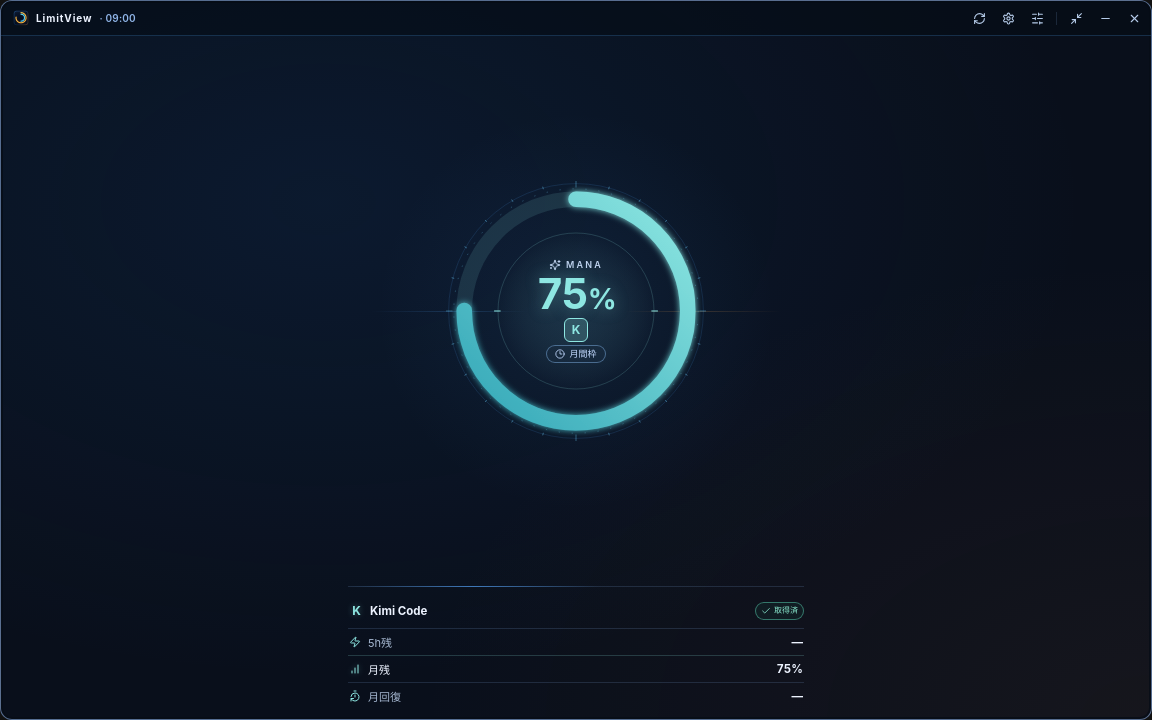
Test case: App › polls only the saved selected provider and switches monthly quota without pretending it is weekly
Click the button with aria-label "残量枠切替": (576,287) left=536, top=259, right=616, bottom=315
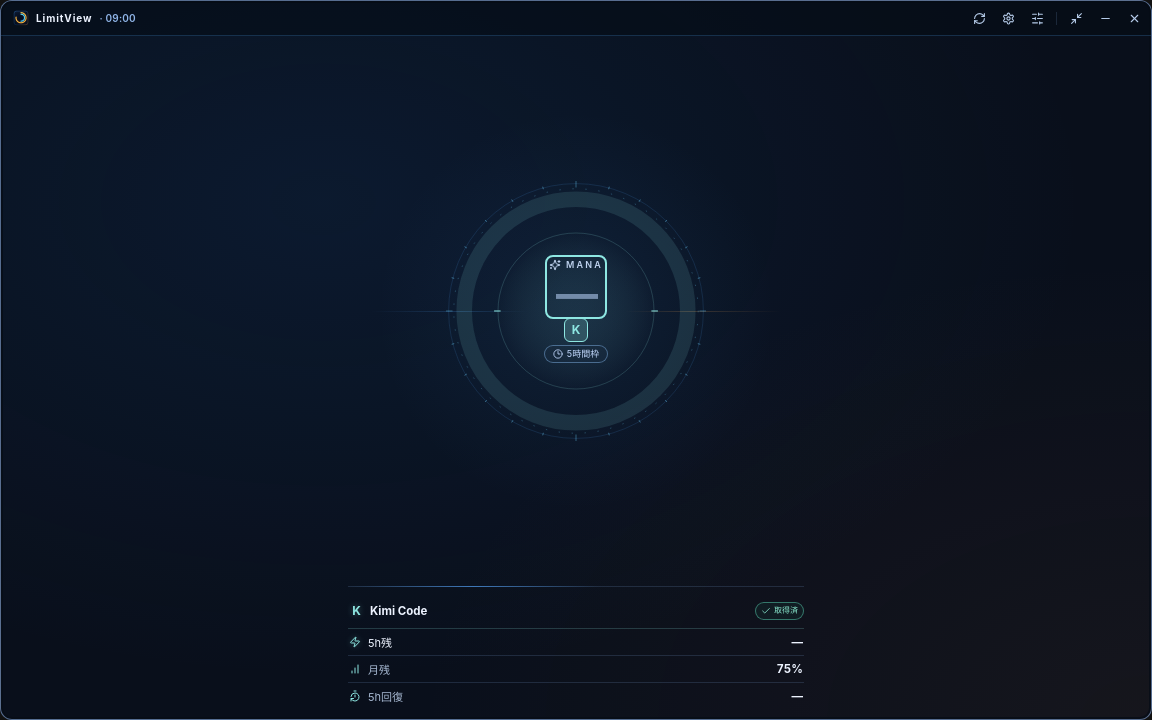
Expected: the button with aria-label "残量枠切替" shows "—"
Click the button with aria-label "残量枠切替": (576,287) left=549, top=259, right=603, bottom=315
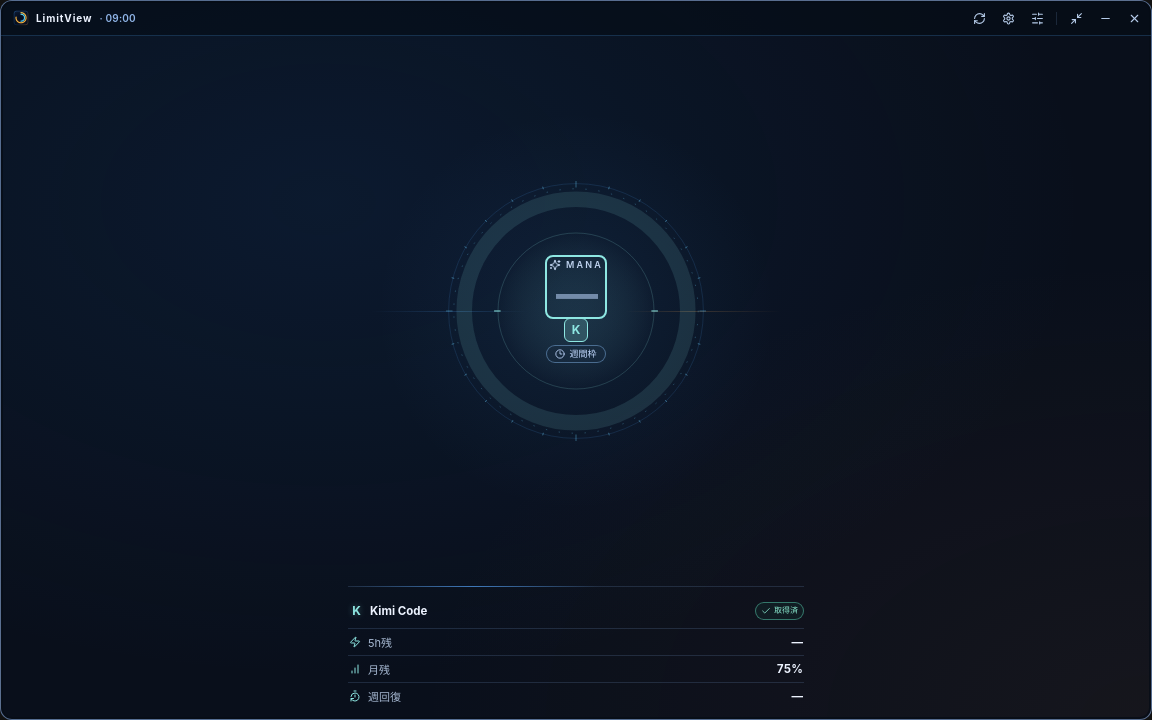
Expected: the button with aria-label "残量枠切替" shows "—"
Click the button with aria-label "残量枠切替": (576,287) left=549, top=259, right=603, bottom=315
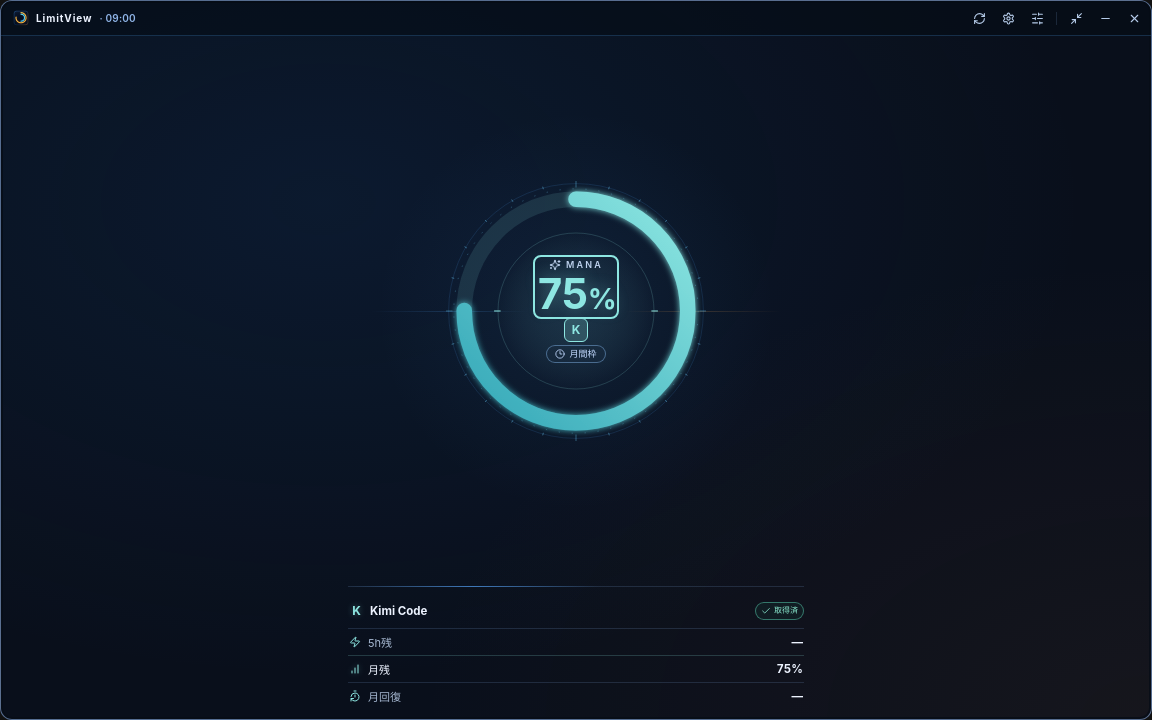
Expected: the button with aria-label "残量枠切替" shows "75%", left=536, top=259, right=616, bottom=315
